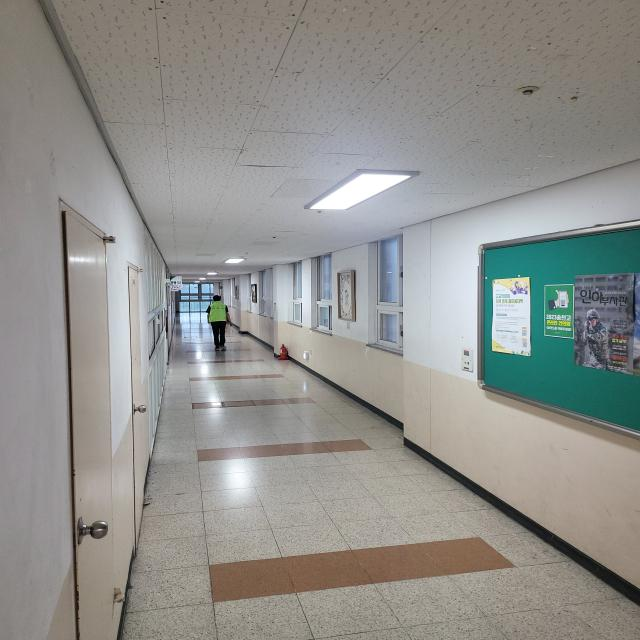weston_spy: (206, 300, 231, 324)
